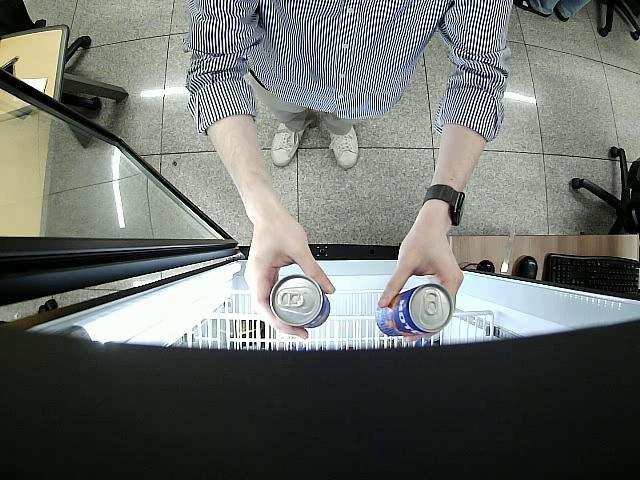00_hand: (245, 222, 336, 339)
16_hot6: (372, 284, 453, 339), (267, 276, 331, 329)
